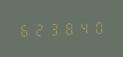eight: (60, 20, 73, 36)
four: (74, 19, 87, 36)
six: (17, 21, 30, 38)
three: (46, 20, 59, 37)
two: (31, 21, 44, 37)
zero: (88, 19, 101, 35)
